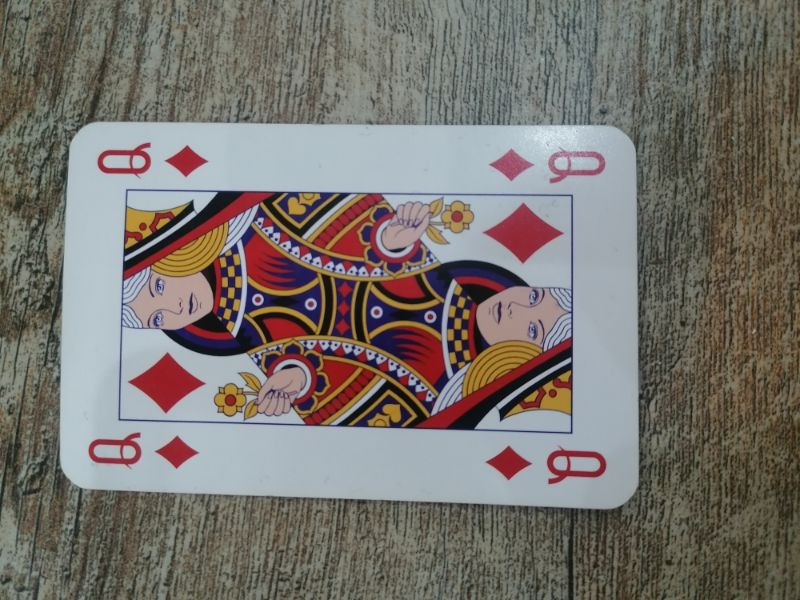Qd: (484, 439, 612, 491), (485, 139, 617, 187), (84, 429, 205, 475), (92, 139, 214, 183)
